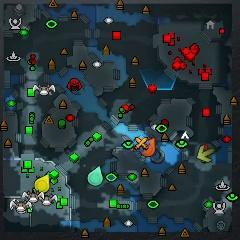Other: (132, 135, 149, 153)
p2: (87, 166, 103, 186)
p4: (35, 174, 50, 194)
p5: (141, 137, 155, 157)
x2: (197, 144, 215, 163)
